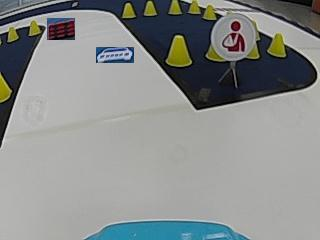cone: (165, 34, 193, 68), (267, 33, 287, 58), (0, 71, 11, 102), (121, 2, 136, 18), (246, 42, 260, 59), (202, 4, 216, 20), (143, 1, 157, 16), (27, 20, 40, 35), (168, 1, 181, 15), (7, 27, 19, 41), (188, 0, 200, 14)
patient: (214, 15, 254, 57)
